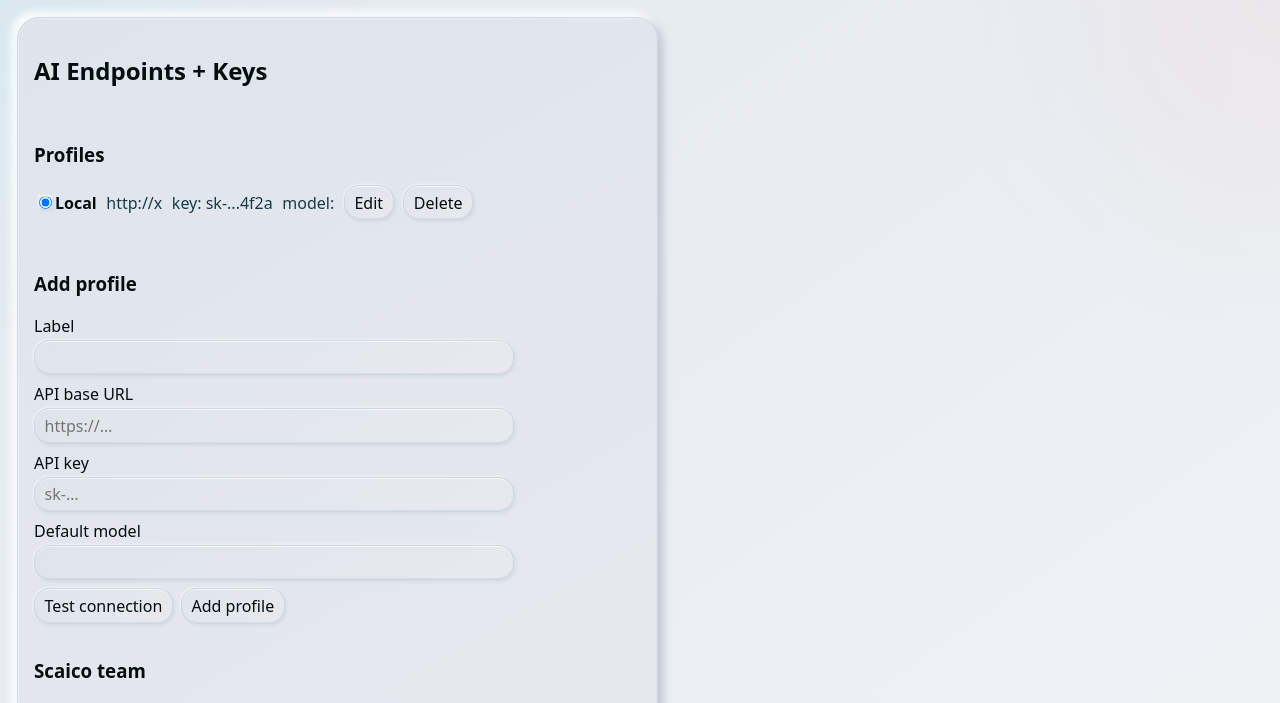
Test: Settings › keeps the free-text model input when the models fetch fails
Expected: the list item with test id "profile-row" is shown, x1=39 y1=185 x2=473 y2=220
What coordinates should you click on to do the following:
click the button "Edit"
I would click on:
 (369, 203)
Its box is x1=344 y1=185 x2=394 y2=220.
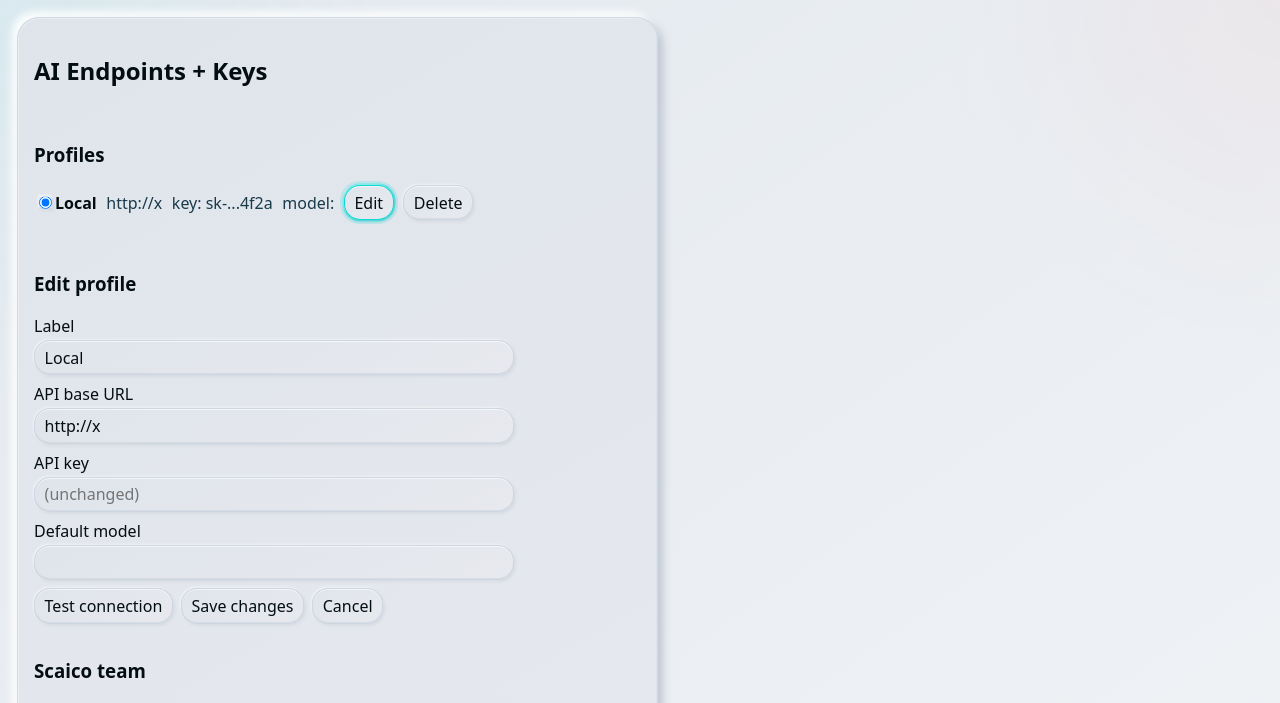
What coordinates should you click on to do the following:
click the button "Test connection"
I would click on:
 (103, 606)
Its box is x1=34 y1=588 x2=173 y2=624.
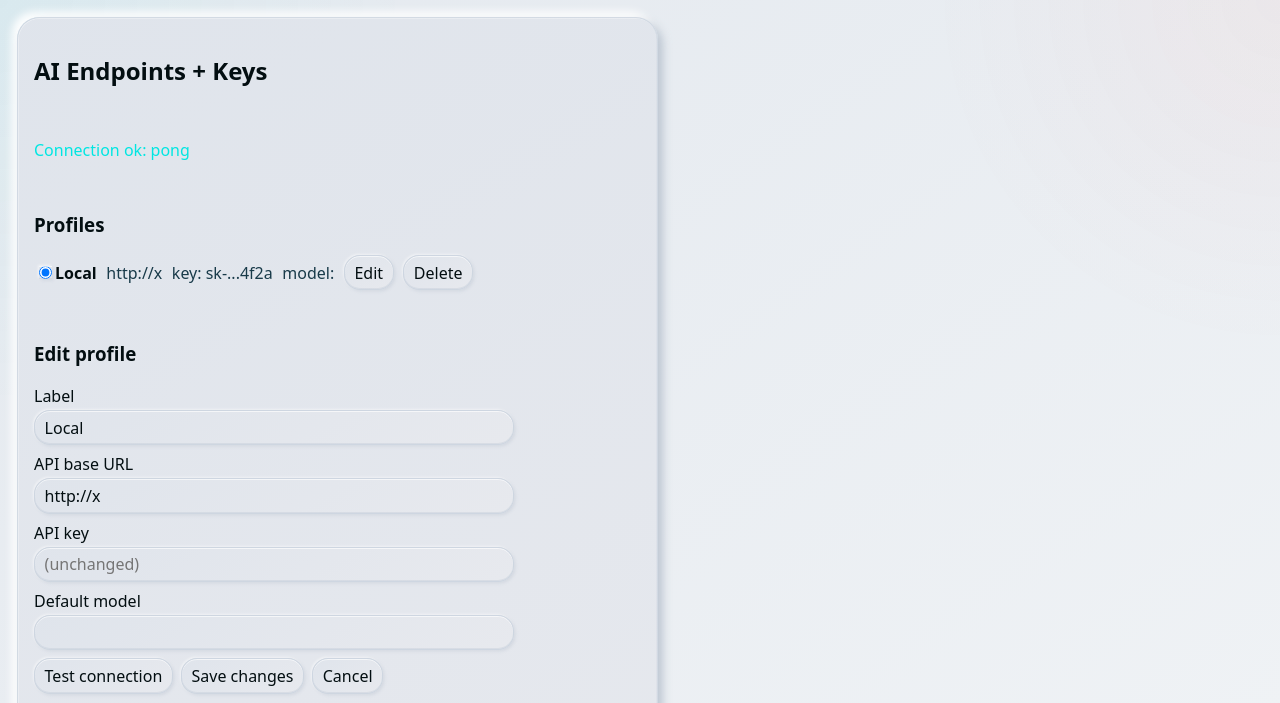
Expected: the text "Connection ok: pong" is shown, x1=34 y1=139 x2=190 y2=161
